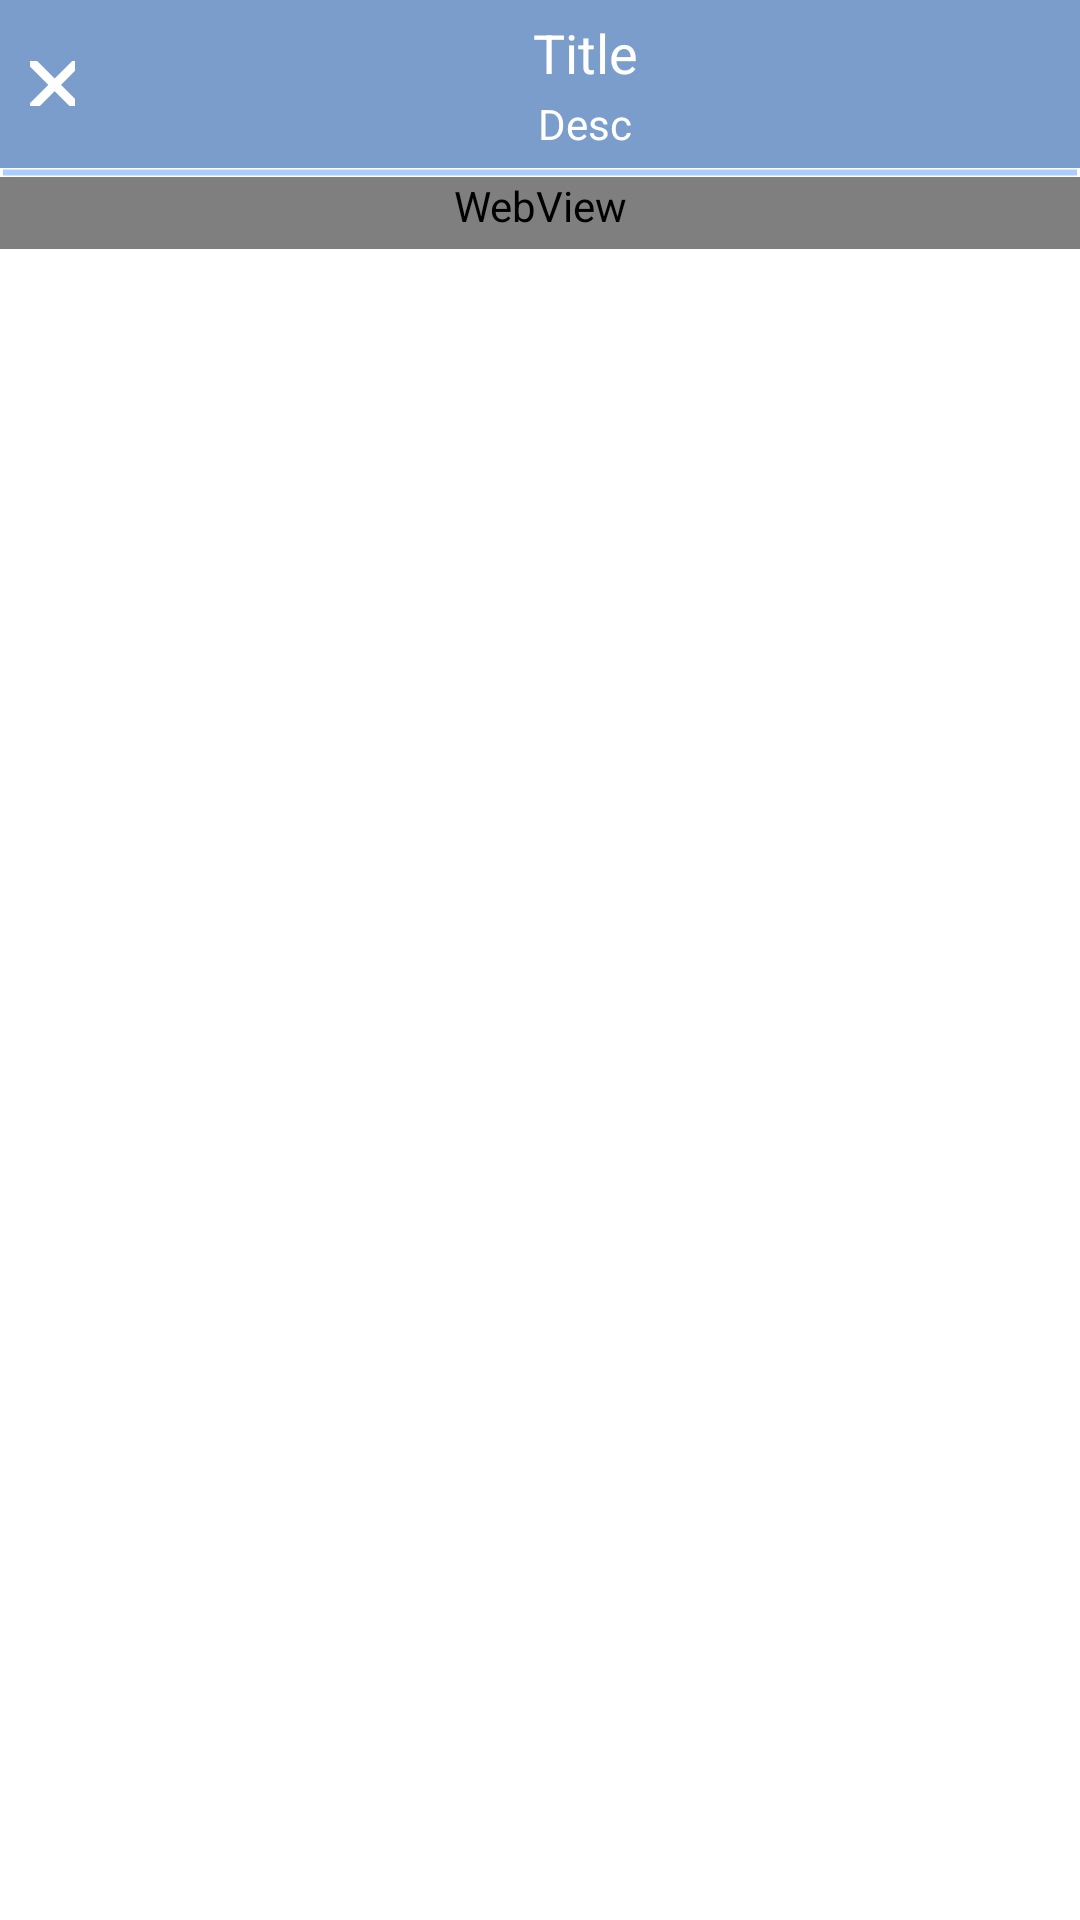

Named icons in this screenshot (1080x1920) and their centers, [x,y]:
close: [52,83]
